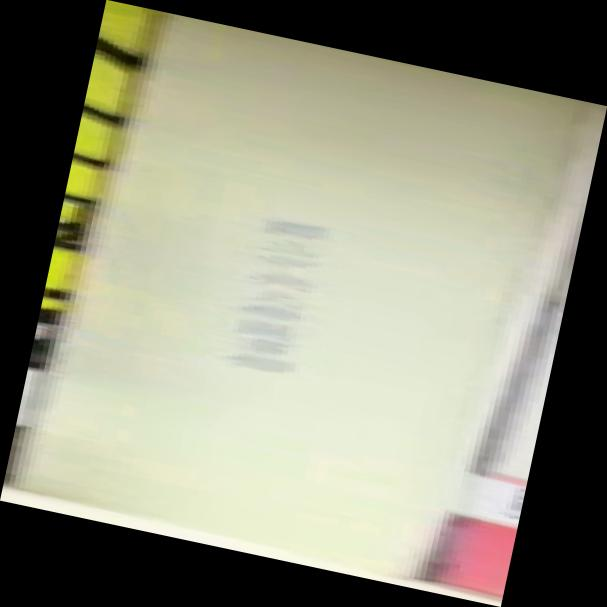backward: (1, 1, 607, 607)
